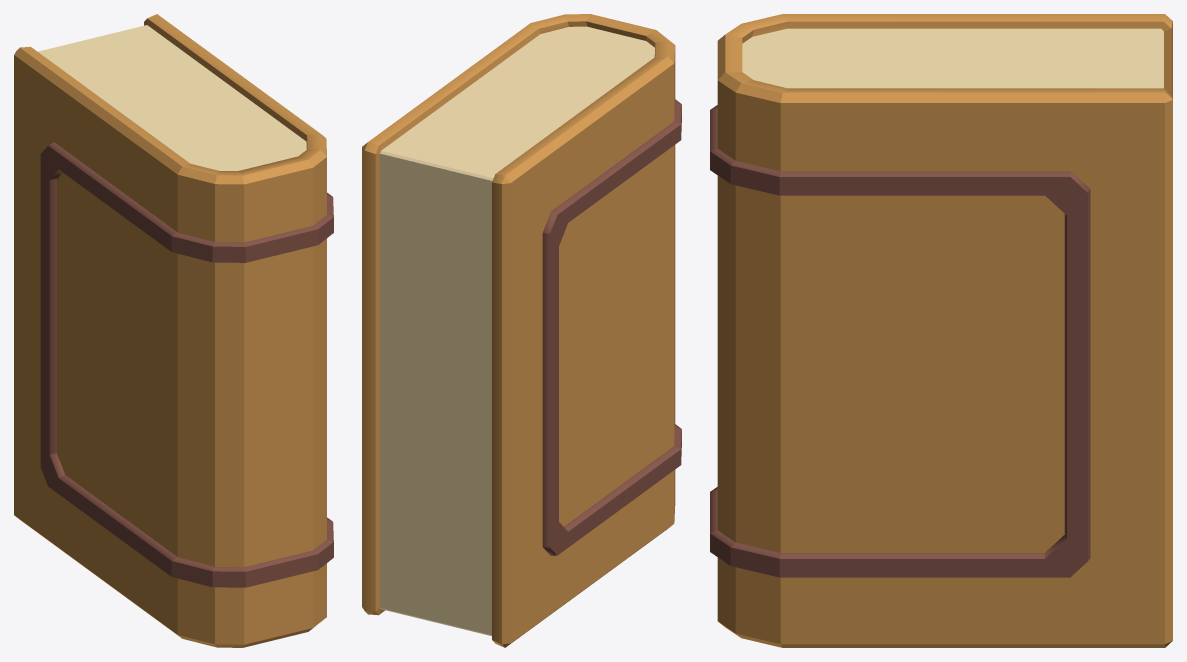
Rendered from book5.fbx.
The picture shows the model from 3 angles, left to right: view 1: azimuth 30°, elevation 25°; view 2: azimuth 150°, elevation 25°; view 3: azimuth 270°, elevation 25°; orthographic projection. The views are drawn at different scales.
Visible parts, largest first — view 1: book5; view 2: book5; view 3: book5.
Part boxes in pixels (left/top/right/bottom): book5: left=14, top=14, right=333, bottom=647; book5: left=362, top=14, right=681, bottom=647; book5: left=710, top=14, right=1172, bottom=647.
Bounding box in the file's own units: 0.5757 × 1.61 × 1.22.
